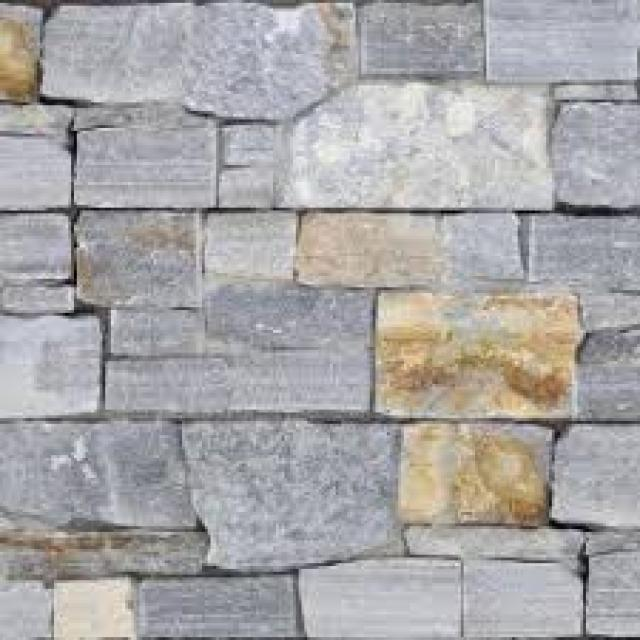Metamorphic: (3, 17, 640, 637)
